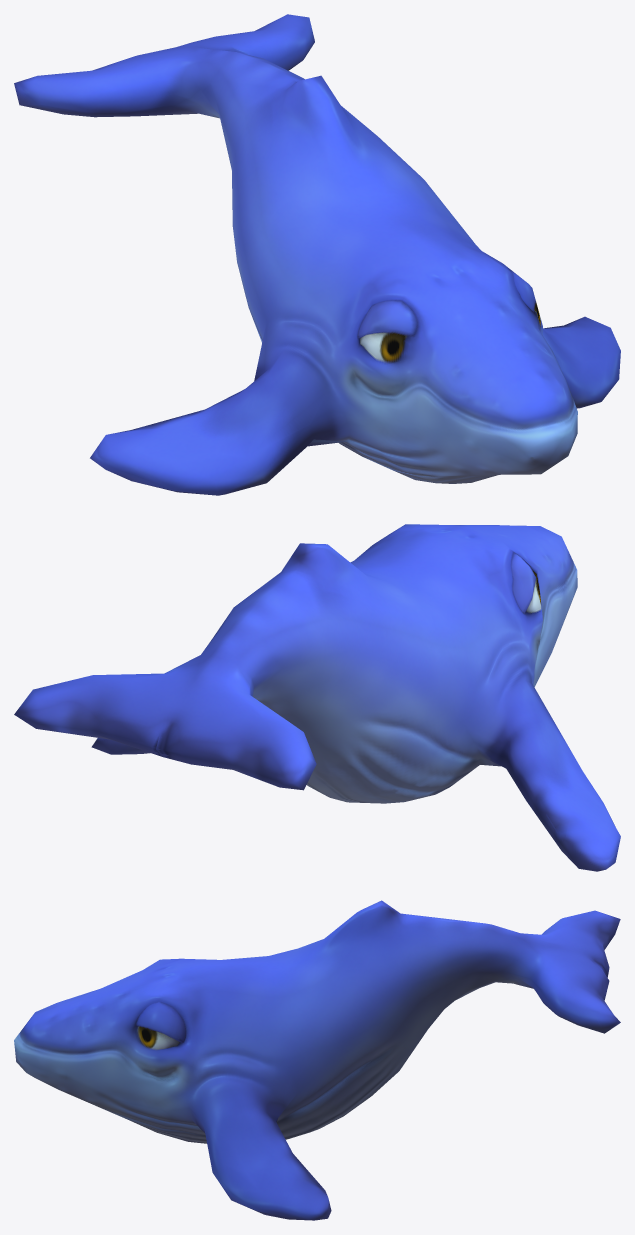
Rendered from whale.glb.
3 views of the same model, one above another, from view 1: azimuth 30°, elevation 25°; view 2: azimuth 150°, elevation 25°; view 3: azimuth 270°, elevation 25° (orthographic). The views are drawn at different scales.
Parts seen in each view (by area): view 1: whaleGeo; view 2: whaleGeo; view 3: whaleGeo.
Boxes of the visible parts, x1,y1,x2,y2 form: whaleGeo: [14, 14, 620, 495]; whaleGeo: [14, 524, 620, 871]; whaleGeo: [14, 900, 620, 1220].
Bounding box in the file's own units: 13.8 × 7.94 × 18.63.
1 material, 1 textured.
